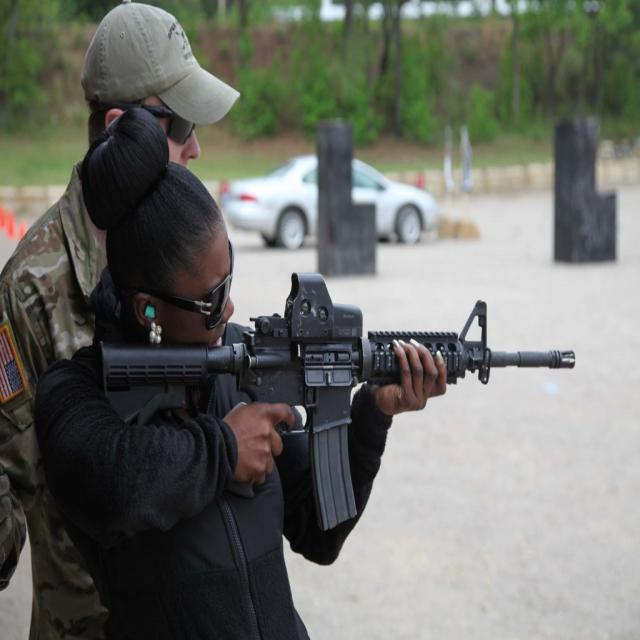weapon: (103, 272, 571, 528)
